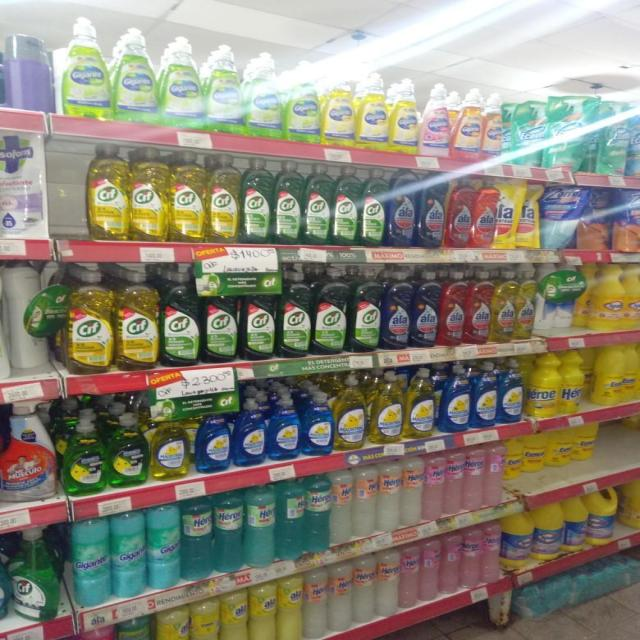ala_conc_amarillo: (492, 270, 516, 344), (516, 268, 535, 341)
ala_conc_azul: (387, 169, 417, 248), (382, 270, 411, 350), (412, 270, 439, 349), (418, 176, 445, 248)
ala_conc_rojo: (441, 270, 466, 347), (446, 177, 472, 249), (467, 270, 491, 345), (473, 179, 495, 249)
ala_crem_amarillo: (249, 581, 276, 640), (278, 575, 302, 640), (220, 589, 248, 640)
ala_sachet_amarillo: (518, 180, 540, 249), (496, 179, 517, 249)
cif_conc_bot_amarilla: (65, 266, 113, 374), (116, 268, 159, 371), (88, 143, 128, 242), (130, 147, 168, 243), (168, 150, 206, 244), (207, 154, 240, 244)
cif_conc_botella_verde: (161, 267, 200, 367), (202, 272, 239, 364), (313, 268, 348, 356), (278, 270, 312, 358), (242, 272, 276, 360), (242, 158, 272, 245), (350, 268, 380, 354), (274, 161, 302, 245), (304, 163, 332, 246), (333, 166, 360, 247), (361, 168, 386, 248)
esencial: (190, 597, 218, 640)
gigante: (68, 517, 110, 606), (112, 510, 146, 598), (147, 503, 181, 589)
heroe: (244, 484, 276, 568), (182, 494, 213, 580), (214, 490, 243, 573), (305, 474, 330, 552), (304, 568, 328, 638), (328, 562, 352, 632), (378, 458, 400, 531), (331, 468, 352, 544), (401, 455, 423, 527), (353, 554, 375, 624), (376, 548, 398, 617), (423, 453, 444, 521), (420, 538, 440, 602), (400, 543, 419, 610), (444, 450, 462, 516), (462, 527, 481, 589), (482, 524, 501, 584), (117, 616, 153, 640)
magistral_con_amarillo: (151, 415, 189, 482), (334, 374, 366, 451), (370, 370, 403, 444), (404, 367, 436, 439)
magistral_con_azul: (233, 395, 266, 467), (193, 412, 231, 474), (268, 392, 300, 462), (439, 363, 470, 433), (302, 390, 333, 457), (498, 359, 524, 424), (472, 361, 496, 429)
